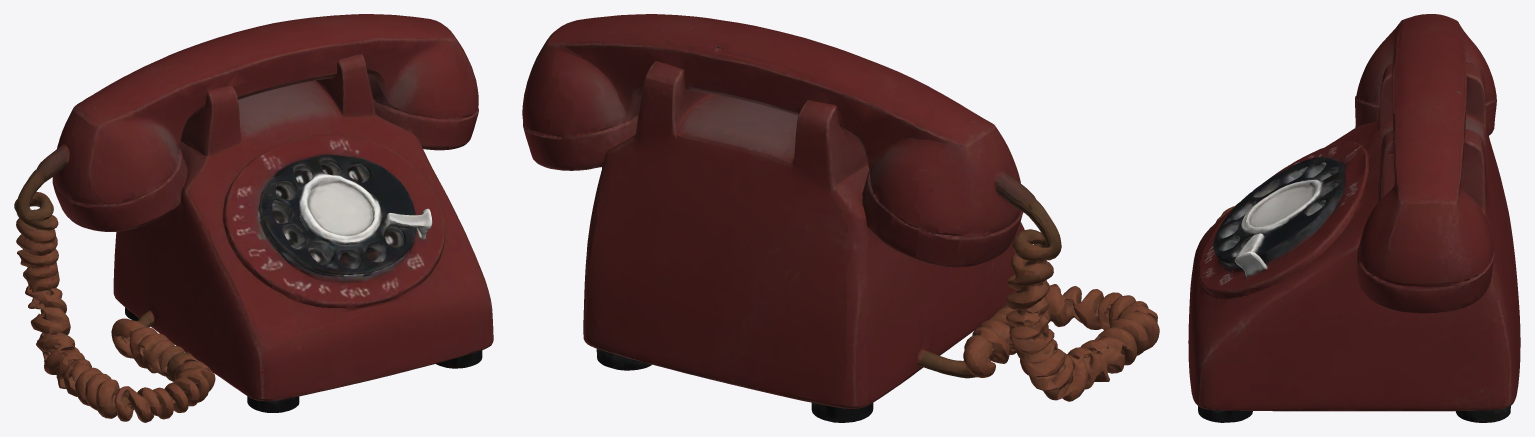
The model's file is parts.glb.
3 views of the same model, side by side, from view 1: azimuth 30°, elevation 25°; view 2: azimuth 150°, elevation 25°; view 3: azimuth 270°, elevation 25° (orthographic). The views are drawn at different scales.
Bounding box in the file's own units: 0.23 × 0.1349 × 0.1387.
Materials: 1 (1 with a texture image).
